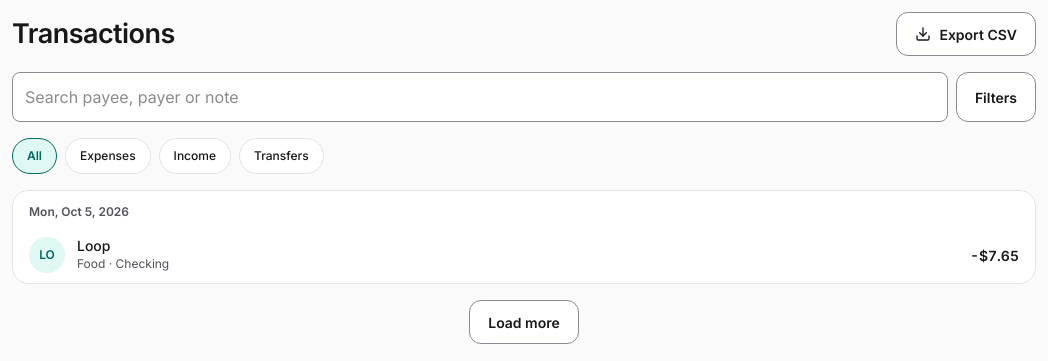
Test: the page › stops and says so when the server keeps sending the same page
Click the button "Load more" at (524, 322), box [469,300,579,344]
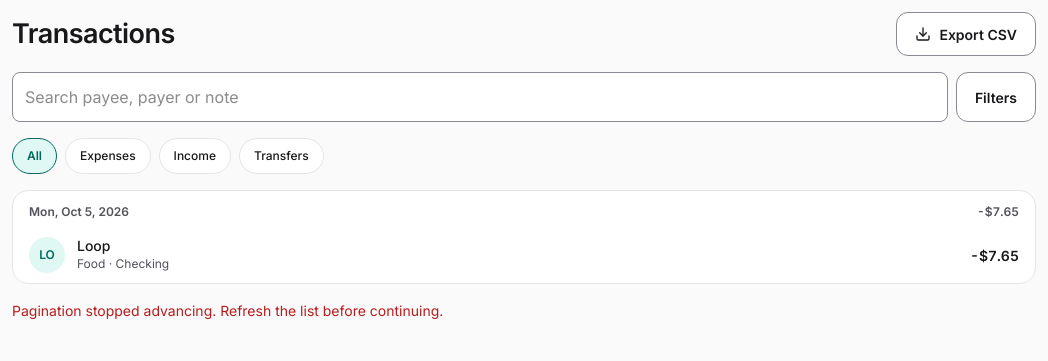
Result: the text "Pagination stopped advancing. Refresh the list before continuing." is shown at [12,302,443,319]
